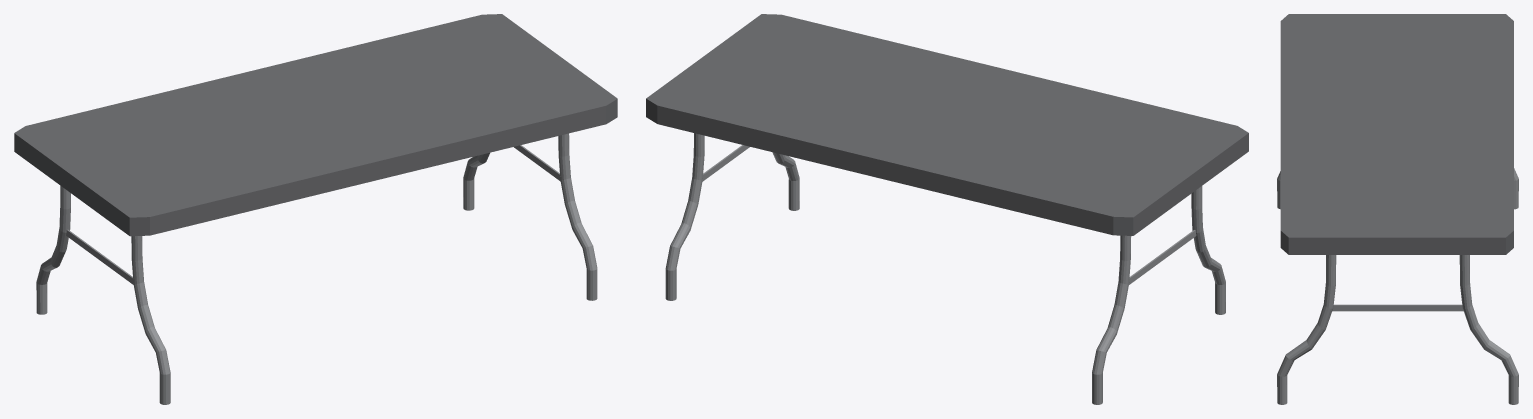
File: Table 2.fbx
The picture shows the model from 3 angles, left to right: view 1: azimuth 30°, elevation 25°; view 2: azimuth 150°, elevation 25°; view 3: azimuth 270°, elevation 25°; orthographic projection. The views are drawn at different scales.
Visible parts, largest first — view 1: Table_2; view 2: Table_2; view 3: Table_2.
Part boxes in pixels (box(x1,y1,x2,y2)): Table_2: box(14, 14, 617, 404); Table_2: box(646, 14, 1248, 404); Table_2: box(1277, 14, 1518, 404).
Bounding box in the file's own units: 229 × 85.18 × 104.
